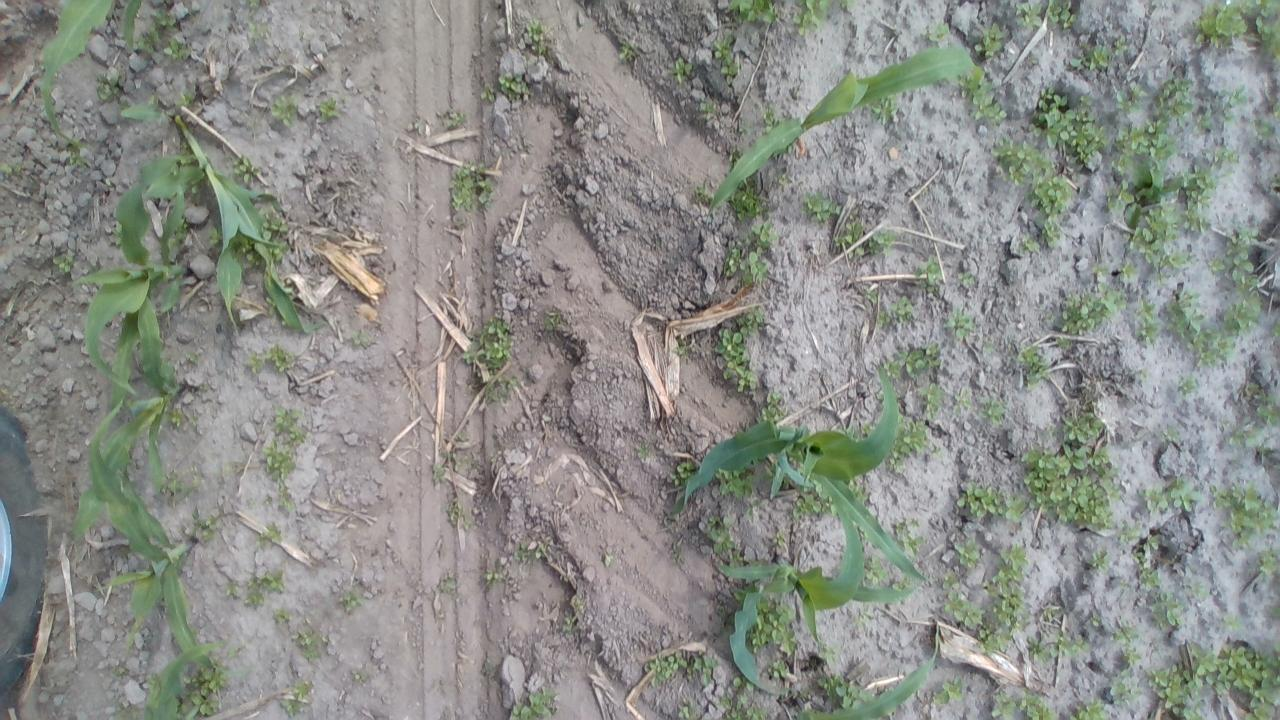Maize: (682, 365, 932, 582), (706, 47, 976, 223), (708, 512, 916, 694), (171, 112, 327, 341), (74, 148, 204, 402), (91, 398, 209, 666), (70, 311, 188, 550), (40, 0, 141, 150), (795, 622, 941, 720), (145, 641, 226, 720)
Weeds: (1022, 410, 1120, 528), (1190, 646, 1280, 720), (1028, 87, 1104, 161), (1215, 481, 1275, 554), (1132, 212, 1192, 274), (983, 542, 1025, 626), (1146, 662, 1206, 720), (1059, 288, 1126, 334), (751, 594, 800, 654), (1208, 226, 1255, 286), (458, 316, 507, 372), (1112, 120, 1174, 164), (1131, 164, 1189, 210), (936, 570, 981, 629), (1194, 0, 1247, 47), (264, 444, 298, 516), (990, 142, 1048, 184), (718, 329, 757, 391), (990, 682, 1052, 720), (447, 160, 493, 210), (186, 663, 226, 717), (1166, 288, 1202, 343), (968, 69, 1006, 121), (1184, 166, 1214, 231), (954, 482, 1001, 521), (1222, 288, 1265, 330), (1031, 175, 1077, 214), (721, 678, 765, 718), (886, 344, 940, 376), (1196, 331, 1238, 372), (1030, 632, 1090, 660), (1254, 0, 1280, 60), (728, 246, 767, 286), (270, 406, 308, 447), (792, 484, 834, 520), (894, 422, 928, 466), (1110, 666, 1146, 706), (509, 688, 554, 720), (1160, 78, 1192, 121), (727, 0, 778, 26), (279, 676, 312, 716), (706, 508, 735, 552), (1017, 342, 1047, 384), (944, 307, 978, 343), (1137, 296, 1159, 350), (794, 0, 826, 37), (1066, 44, 1108, 72), (650, 652, 686, 684), (1170, 478, 1206, 510), (1151, 592, 1182, 628), (1116, 80, 1148, 112), (974, 23, 1006, 55), (894, 518, 922, 554), (722, 471, 762, 496), (980, 626, 1011, 658), (834, 213, 864, 246), (976, 397, 1007, 428), (1182, 573, 1212, 605), (1220, 87, 1246, 123), (1104, 179, 1132, 212), (686, 655, 720, 682), (293, 629, 323, 659), (96, 68, 124, 100), (189, 511, 218, 540), (1012, 0, 1042, 28), (734, 188, 762, 218), (920, 382, 946, 414), (914, 257, 945, 283), (1223, 427, 1265, 446), (716, 38, 738, 74), (1070, 700, 1108, 720), (261, 211, 288, 239), (241, 576, 263, 610), (872, 97, 899, 124), (232, 154, 258, 182), (836, 685, 874, 704), (267, 98, 297, 122), (1256, 392, 1280, 422), (1206, 142, 1238, 164), (487, 378, 513, 405), (1049, 0, 1076, 26), (808, 195, 834, 222), (951, 388, 976, 416), (750, 222, 781, 244), (1191, 107, 1216, 134), (164, 469, 182, 506), (756, 395, 786, 417), (737, 309, 768, 330), (1144, 485, 1170, 510), (868, 551, 888, 583), (268, 345, 294, 369), (136, 26, 159, 53), (160, 38, 187, 61), (956, 539, 978, 566), (937, 680, 964, 702), (867, 230, 894, 252), (264, 568, 285, 594), (818, 671, 844, 692), (248, 350, 268, 377), (1042, 217, 1062, 244), (1004, 496, 1024, 523), (1123, 647, 1151, 666), (322, 98, 343, 123), (497, 72, 522, 93), (670, 462, 691, 487), (1040, 604, 1066, 624), (514, 542, 540, 562), (1251, 121, 1277, 140), (1120, 523, 1142, 545), (1257, 553, 1280, 574), (694, 180, 714, 204), (930, 19, 949, 44), (1138, 565, 1158, 588), (670, 60, 693, 80), (892, 296, 915, 316), (850, 479, 869, 503), (339, 591, 359, 613), (819, 642, 841, 662), (1094, 262, 1113, 284), (149, 12, 175, 28), (771, 527, 786, 554), (454, 454, 474, 474), (762, 103, 778, 128), (1224, 613, 1245, 632), (701, 97, 720, 117), (524, 22, 545, 40), (620, 43, 638, 64), (1092, 548, 1108, 570), (66, 145, 82, 167), (542, 312, 560, 331), (768, 661, 787, 679), (431, 463, 447, 483), (774, 172, 794, 188), (1146, 534, 1165, 550), (438, 572, 454, 591), (274, 610, 294, 625), (1123, 262, 1138, 282), (270, 243, 287, 260), (168, 406, 184, 424), (1112, 626, 1134, 639), (224, 578, 238, 598), (449, 502, 460, 527), (53, 254, 70, 270), (891, 576, 910, 590), (1088, 608, 1102, 627), (839, 1, 858, 15), (1206, 257, 1225, 271), (480, 84, 496, 100), (248, 22, 266, 36), (448, 113, 466, 127), (955, 271, 973, 285), (207, 229, 220, 248), (1268, 605, 1280, 625), (354, 335, 372, 348), (0, 162, 19, 174), (1130, 548, 1144, 564), (264, 526, 280, 540), (1178, 378, 1192, 394), (638, 444, 652, 458), (677, 704, 691, 718), (1266, 102, 1280, 116), (1166, 424, 1180, 438), (930, 443, 944, 457), (1026, 240, 1039, 255), (1112, 39, 1126, 52), (875, 312, 891, 323), (487, 572, 501, 584), (729, 146, 741, 160), (737, 122, 750, 134), (1246, 383, 1260, 394), (1058, 337, 1072, 348), (859, 424, 874, 434), (230, 460, 242, 472), (984, 338, 996, 350), (674, 344, 686, 356), (438, 448, 449, 460), (604, 554, 614, 567), (848, 427, 858, 440), (352, 668, 364, 678), (1272, 322, 1280, 337), (256, 538, 270, 546), (461, 430, 472, 439), (1120, 578, 1129, 586), (264, 493, 272, 502), (565, 618, 576, 624)
